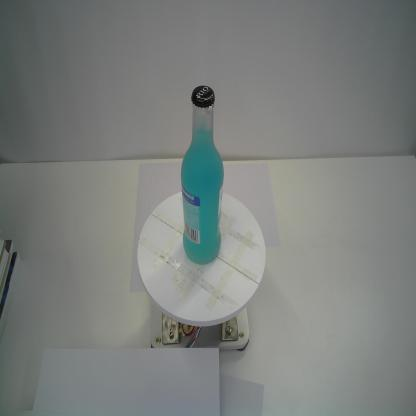Alcohol: (180, 84, 225, 266)
